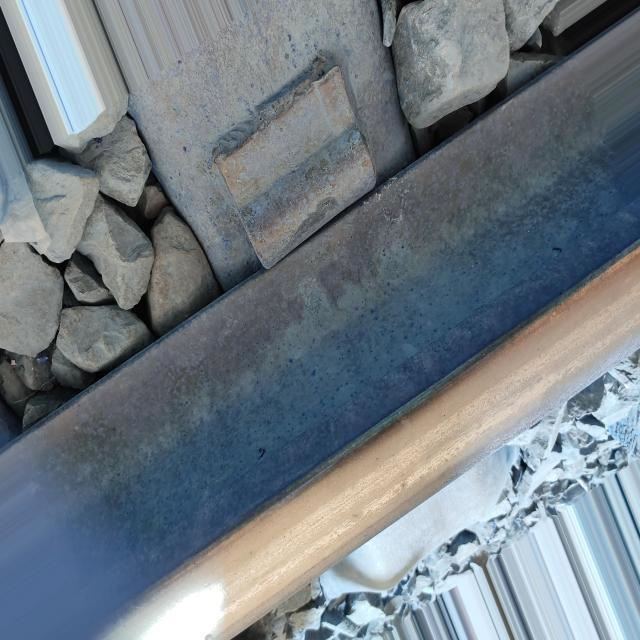Missing Fastener: (194, 37, 384, 274)
